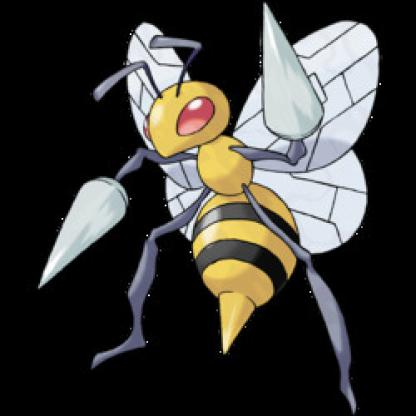Beedrill: (31, 10, 384, 411)
